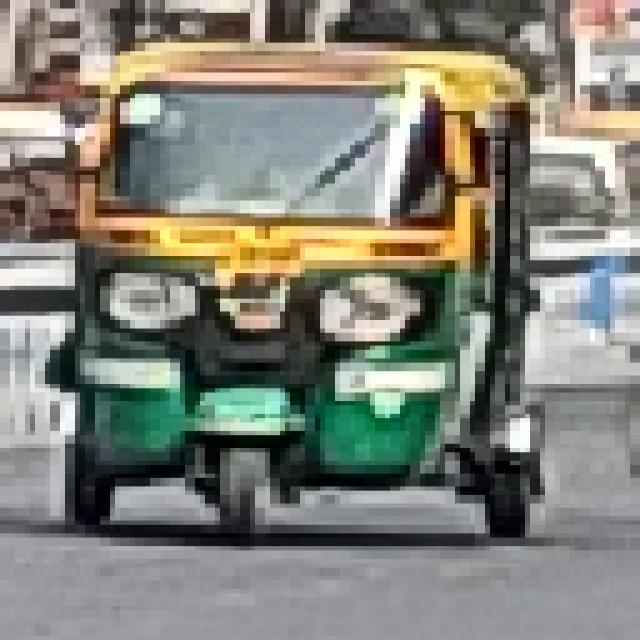autorickshaw: (70, 34, 545, 551)
